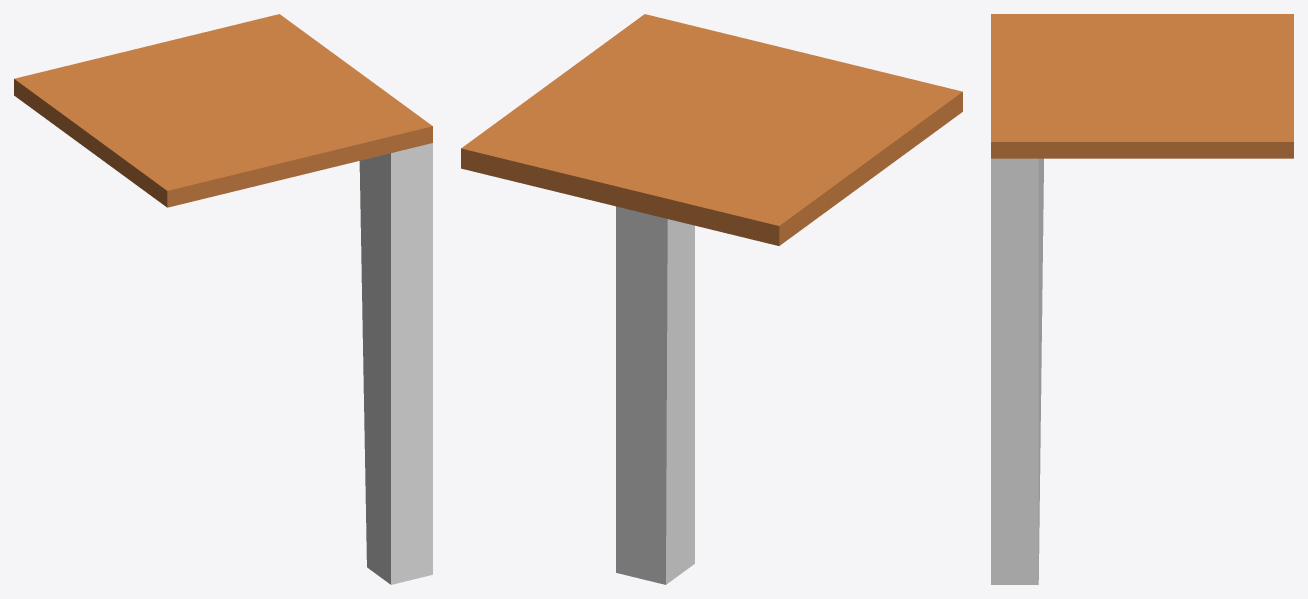
File: Kitchen_Cabinet_6A.fbx
The picture shows the model from 3 angles, left to right: view 1: azimuth 30°, elevation 25°; view 2: azimuth 150°, elevation 25°; view 3: azimuth 270°, elevation 25°; orthographic projection. The views are drawn at different scales.
Visible parts, largest first — view 1: polySurface2356; view 2: polySurface2356; view 3: polySurface2356.
Part boxes in pixels (x1=…): polySurface2356: x1=14, y1=14, x2=432, y2=584; polySurface2356: x1=461, y1=14, x2=962, y2=584; polySurface2356: x1=991, y1=14, x2=1293, y2=584.
Size of the model in its own units: 82.71 by 134 by 82.71.
Materials: 1 (1 with a texture image).
